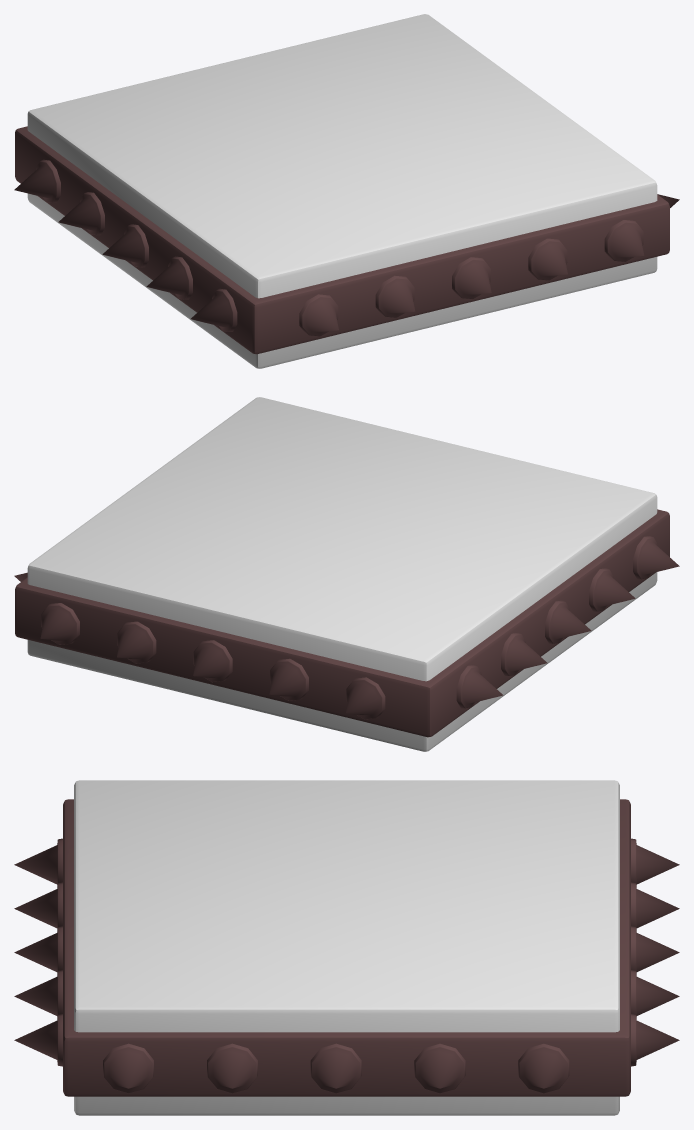
The model's file is Mesh_Plataforma_Movible.fbx.
3 renders of one model, top to bottom at view 1: azimuth 30°, elevation 25°; view 2: azimuth 150°, elevation 25°; view 3: azimuth 270°, elevation 25°, orthographic. The views are drawn at different scales.
Parts seen in each view (by area): view 1: Plataforma_No_Movible, Cone.001, Cone; view 2: Plataforma_No_Movible, Cone.001, Cone; view 3: Plataforma_No_Movible, Cone.001, Cone.
Part boxes in pixels (x1,y1,x2,y2): Plataforma_No_Movible: (15, 14, 669, 368); Cone.001: (299, 220, 644, 336); Cone: (14, 159, 679, 331); Plataforma_No_Movible: (15, 397, 669, 751); Cone.001: (40, 603, 385, 719); Cone: (14, 536, 679, 708); Plataforma_No_Movible: (63, 780, 630, 1115); Cone.001: (14, 838, 679, 1066); Cone: (103, 1043, 569, 1093).
Size of the model in its own units: 1220 by 220 by 1220.
